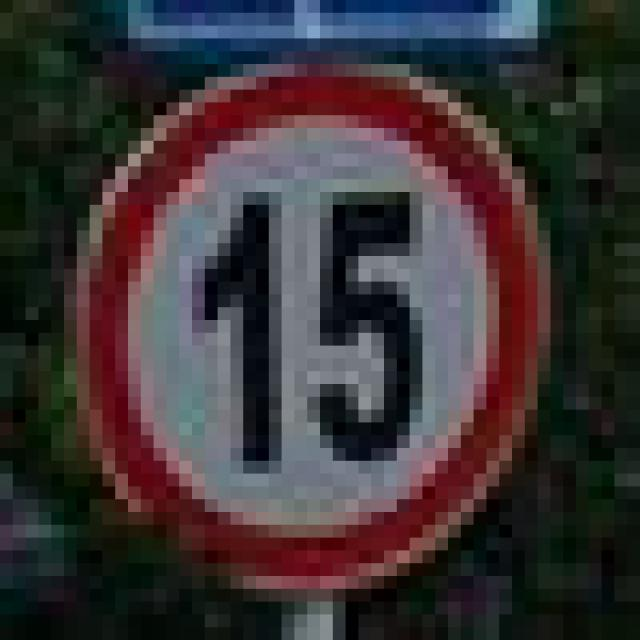SPEED_LIMIT_15: (65, 54, 558, 595)
